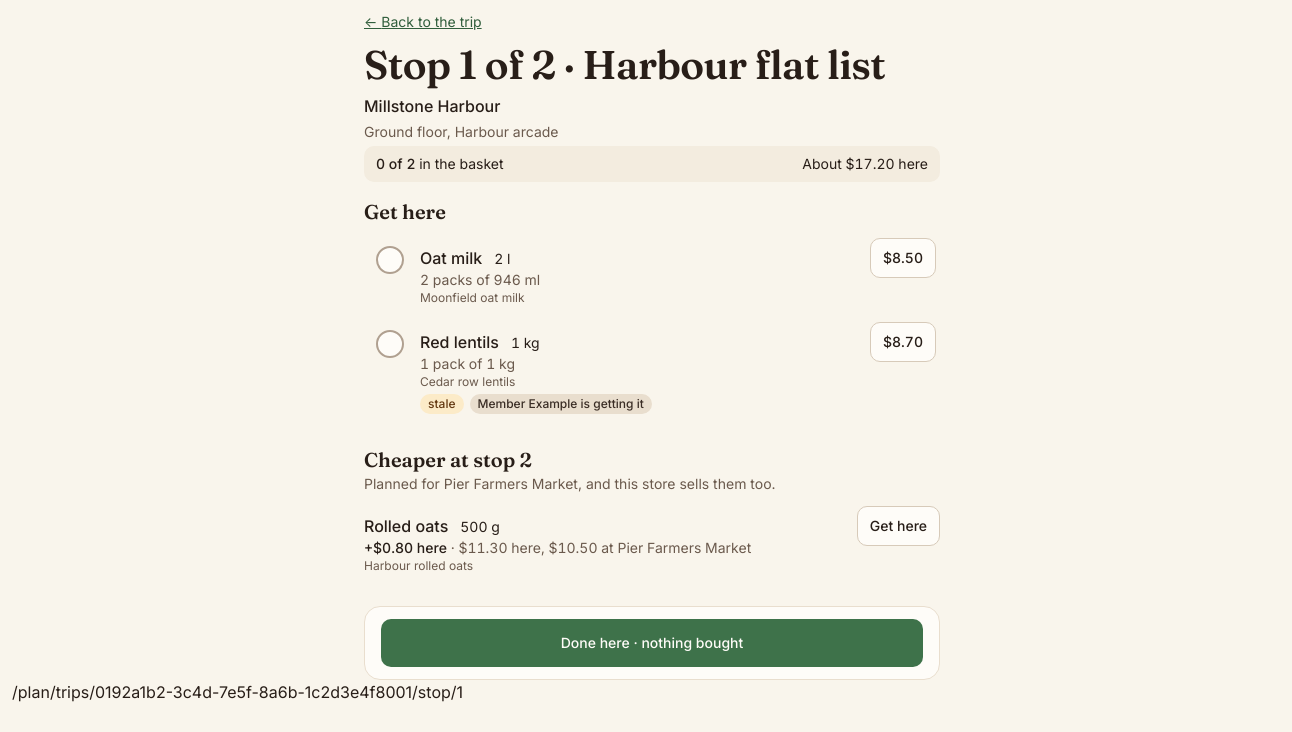
it: Cheaper at stop 2 (UI-8.17) › lists a later stop's item with the difference, and Get here moves it in
expect the heading "Cheaper at stop 2" is shown: met, box [364,447,532,472]
expect the text with test id "cheaper-difference" reads "+$0.80 here": met, box [364,539,447,556]
Click the button with aria-label "Get Rolled oats here".
click(898, 526)  # box [857,506,940,546]
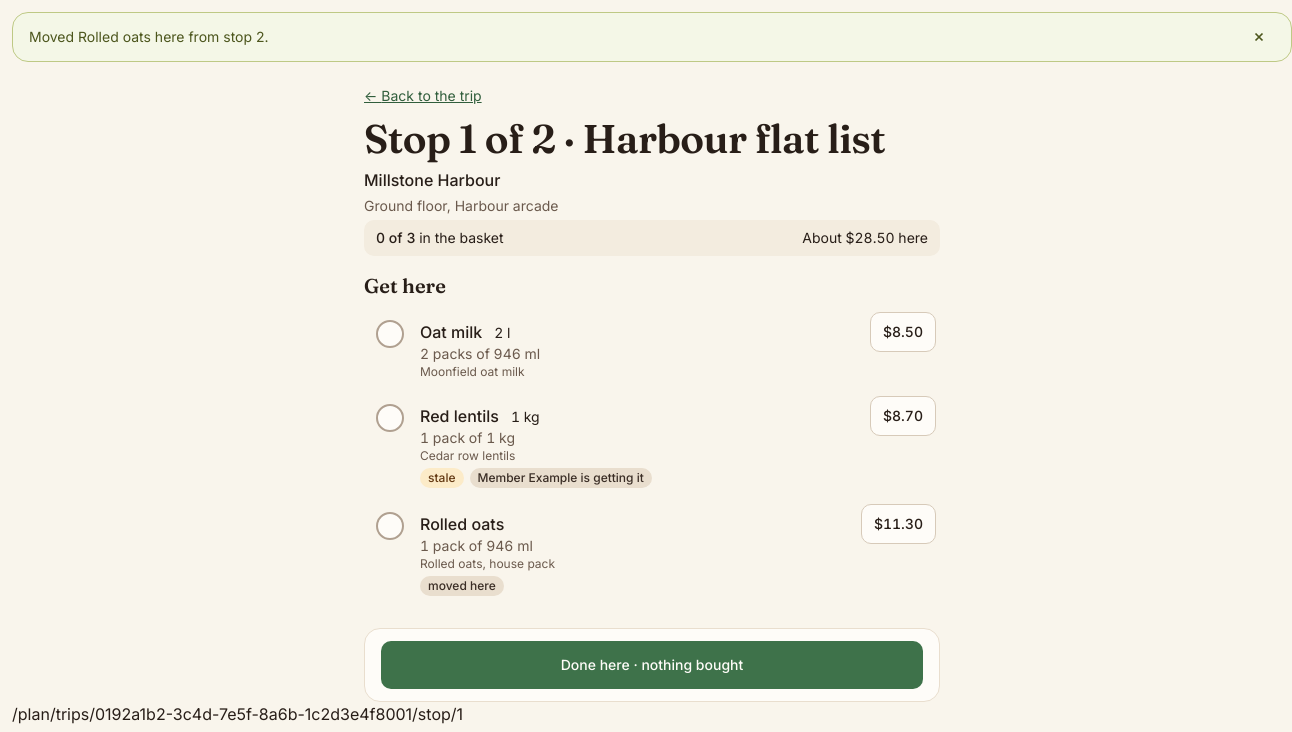
expect the element with test id "cheaper-section" is gone: met
expect the text "moved here" is shown: met, box [420,576,504,596]
expect the element with test id "stop-progress" shows "0 of 3 in the basket": met, box [364,220,940,256]
